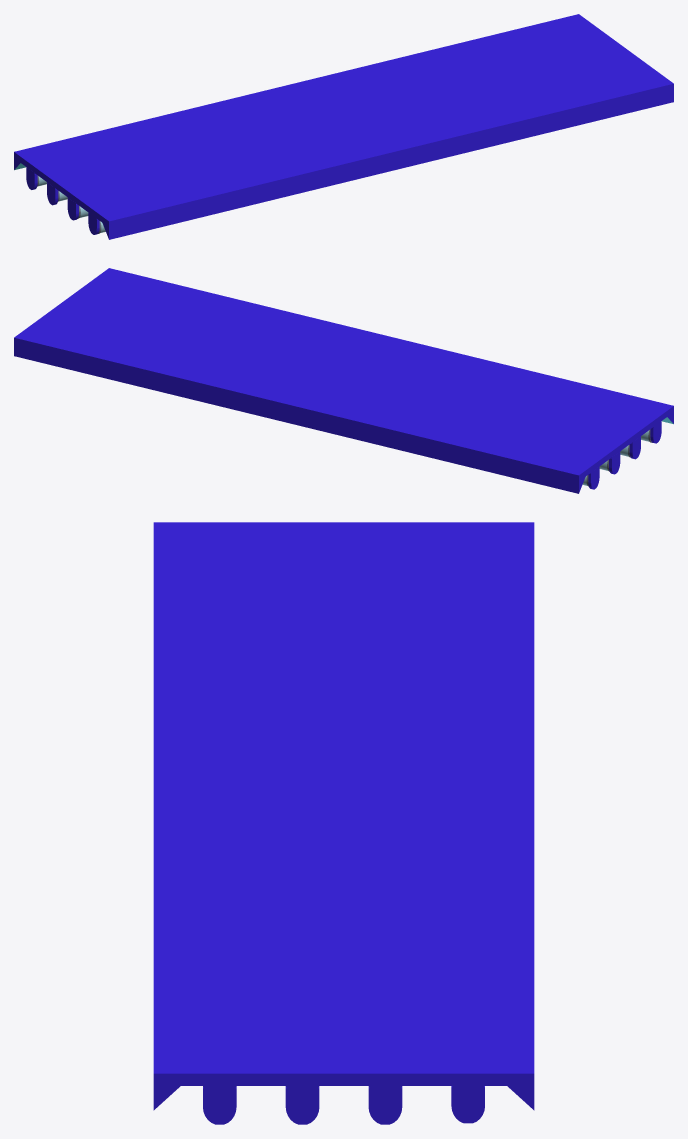
The model's file is Barra de luz.fbx.
3 views of the same model, one above another, from view 1: azimuth 30°, elevation 25°; view 2: azimuth 150°, elevation 25°; view 3: azimuth 270°, elevation 25° (orthographic). The views are drawn at different scales.
Parts seen in each view (by area): view 1: FFixture04Grey; view 2: FFixture04Grey; view 3: FFixture04Grey.
Part boxes in pixels (bbox=[...]): FFixture04Grey: bbox=[14, 14, 673, 239]; FFixture04Grey: bbox=[14, 268, 673, 493]; FFixture04Grey: bbox=[153, 522, 534, 1124].
Size of the model in its own units: 4800 by 207 by 1400.
